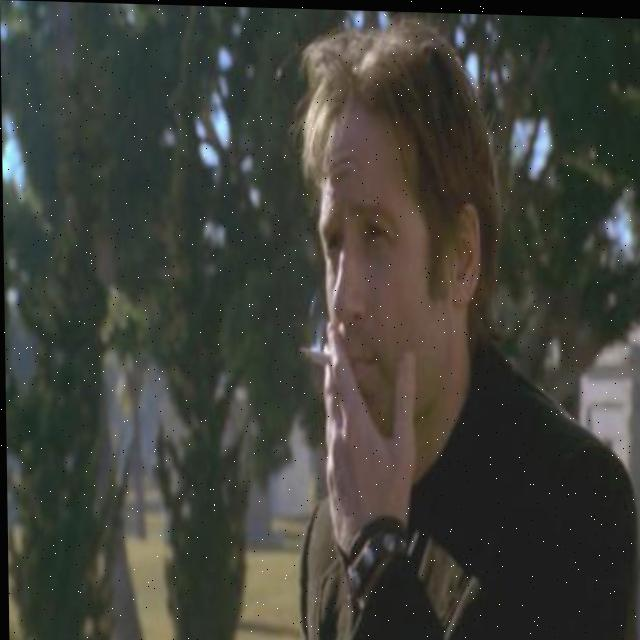cigarette: (297, 344, 333, 369)
